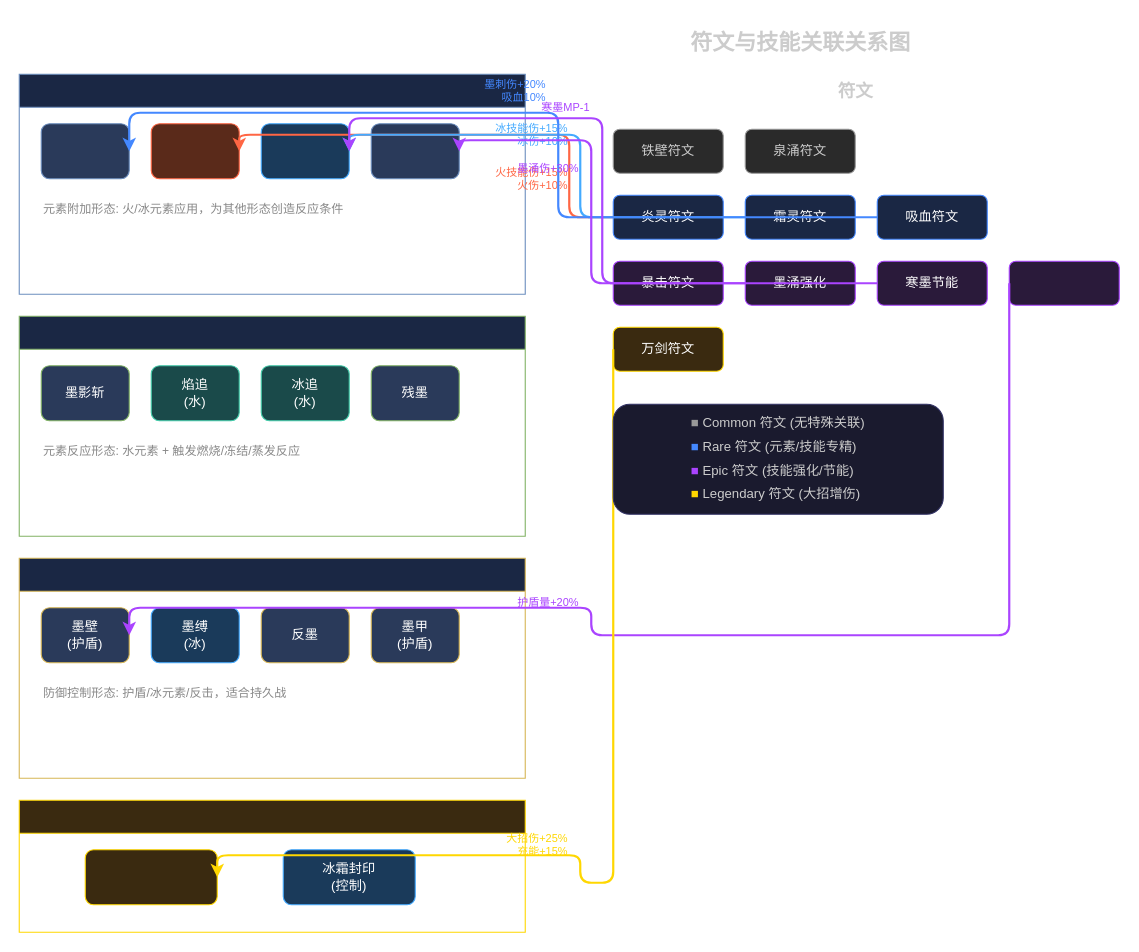
Some shapes in this 1139 by 952 pixel diagram are drawn without their labels. The shapes that lost their labels are listed below. From the top down, each one's box as (x1, y1, x2, y2) in pixels, then its label:
(40, 123, 129, 179): 墨刺
(150, 123, 239, 179): 炎墨 (火)
(260, 123, 349, 179): 寒墨 (冰)
(370, 123, 459, 179): 墨涌
(18, 73, 525, 294): 初临形态 (ChuLin)
(1008, 260, 1119, 305): 墨壁强化
(18, 315, 525, 536): 流墨形态 (LiuMo)
(18, 557, 525, 778): 守墨形态 (ShouMo)
(84, 849, 217, 905): 万剑归宗 (单体)
(18, 799, 525, 932): 大招
